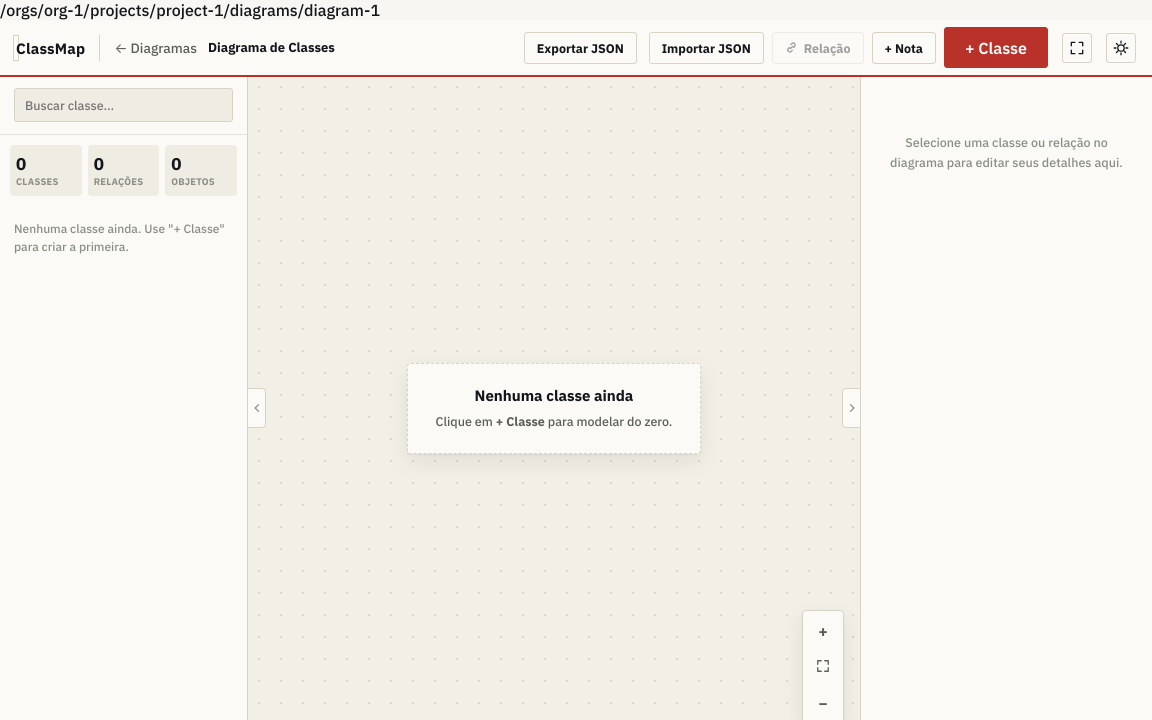
Test: DiagramEditorPage — TASK-056 criar diagrama com o recorte › CA-01: cria no mesmo projeto, com type "classes", e navega para o diagrama novo
Click the button "+ Classe" at [996, 48], box [944,27,1048,68]
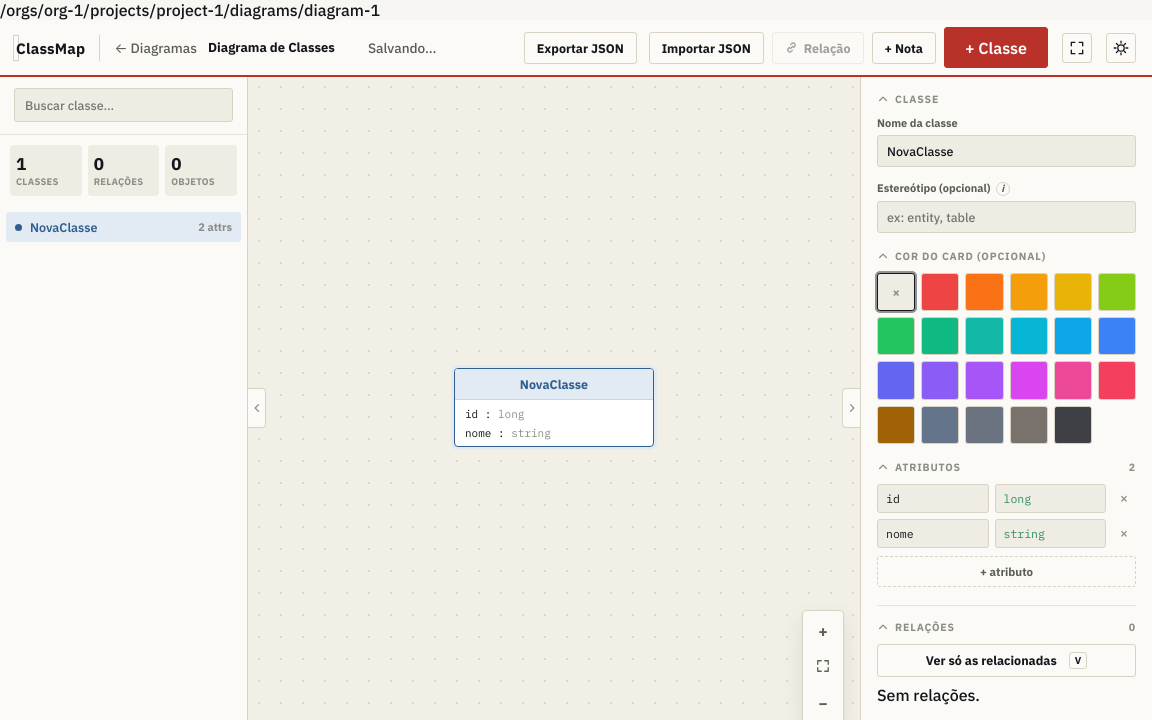
Press n
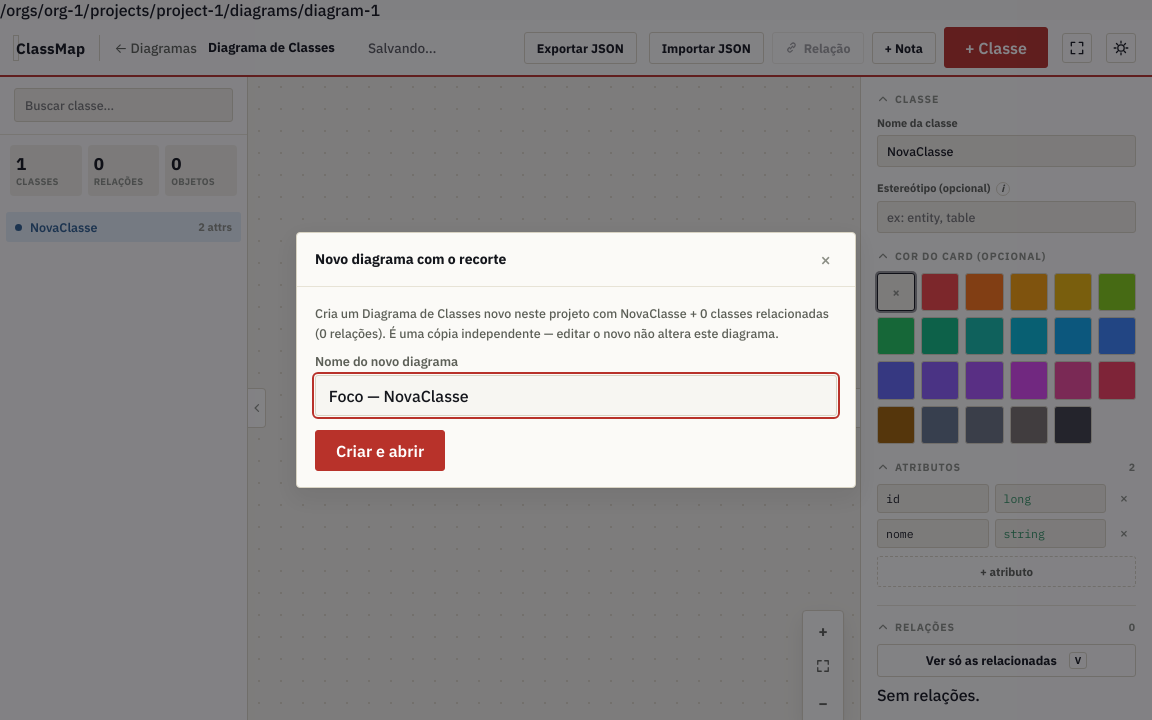
Click the button "Criar e abrir" at [380, 451], box [315,430,445,472]
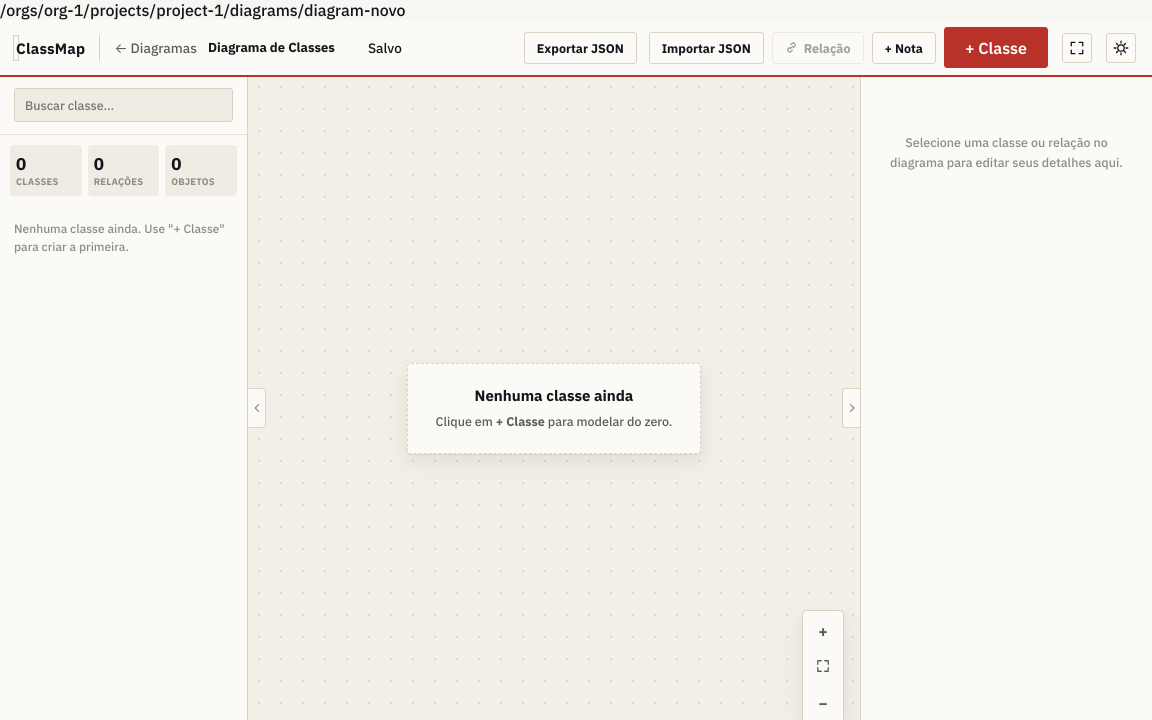
Result: the text with test id "location" reads "/orgs/org-1/projects/project-1/diagrams/diagram-novo" at [0,0,406,20]
